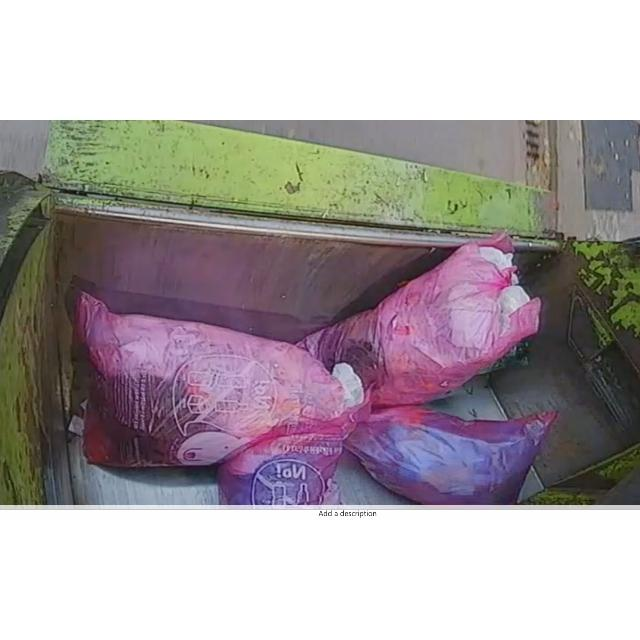other_trashbag: (76, 292, 364, 468), (299, 232, 541, 407), (345, 406, 556, 505), (218, 410, 357, 506)
